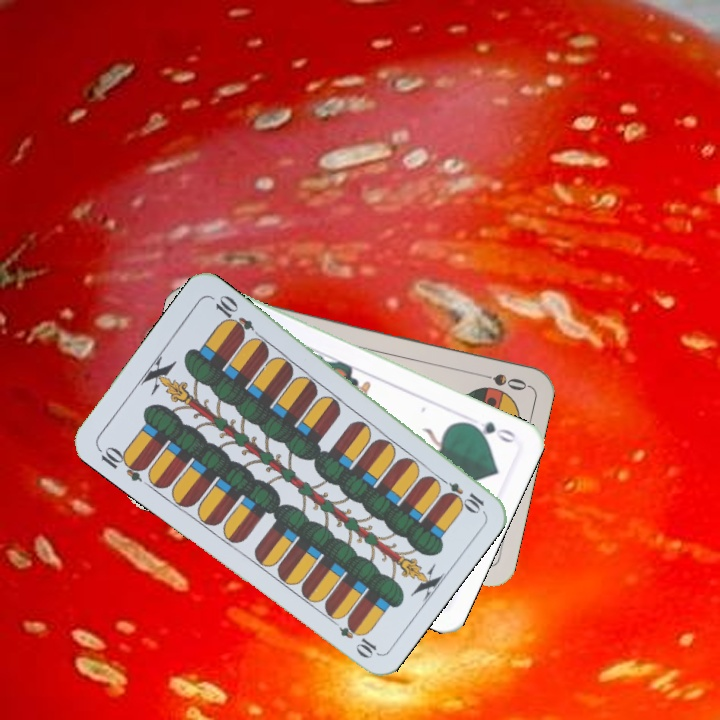E10: (93, 442, 149, 484), (433, 472, 487, 515)
GO: (462, 417, 519, 446)
SO: (471, 370, 530, 394)
